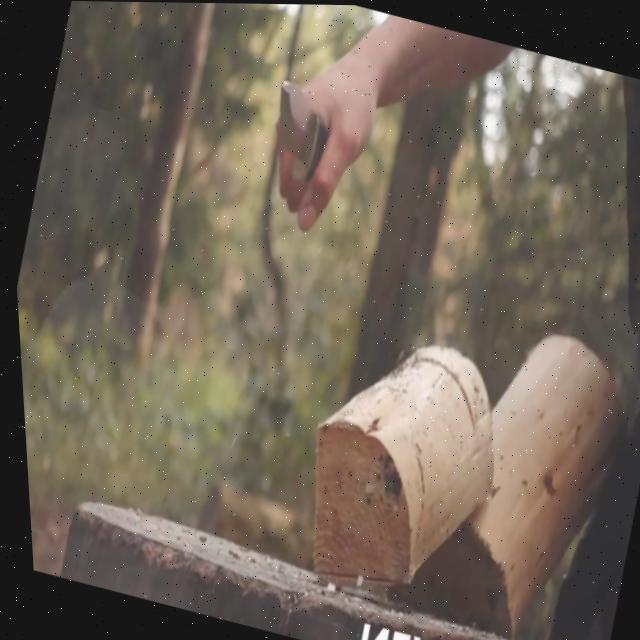knife: (257, 75, 339, 182)
